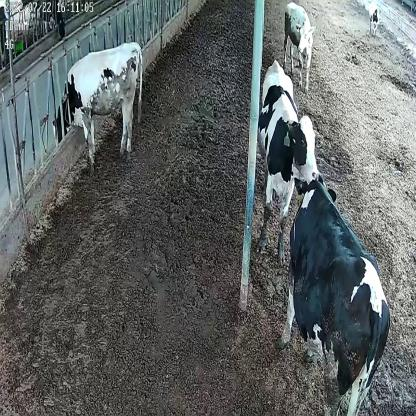cow: (280, 170, 392, 412), (258, 60, 319, 261), (53, 42, 142, 166), (281, 0, 316, 94), (365, 3, 381, 39)
